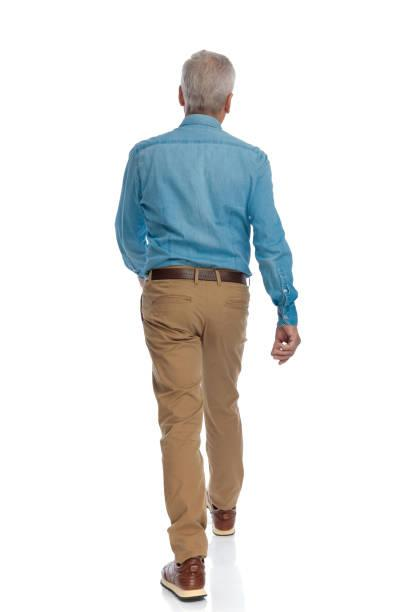Human: (99, 29, 319, 602)
